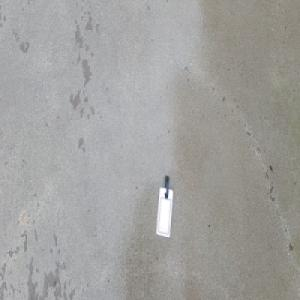LuggageTag: (155, 174, 174, 238)
